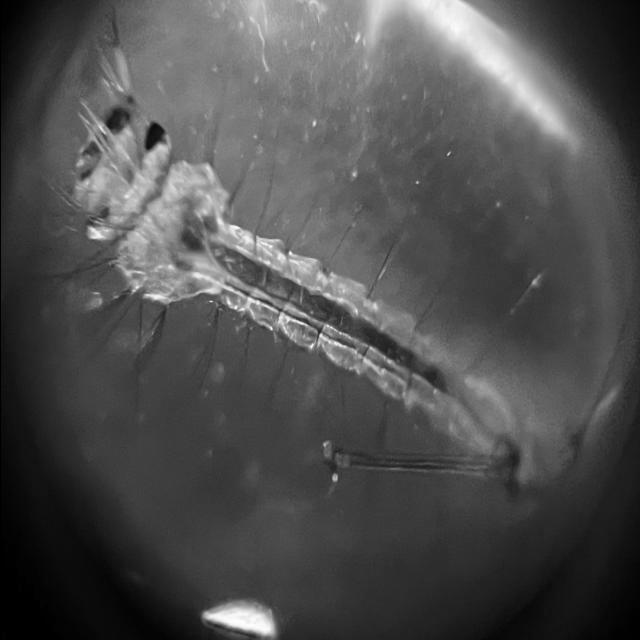larvas: (71, 95, 542, 478)
